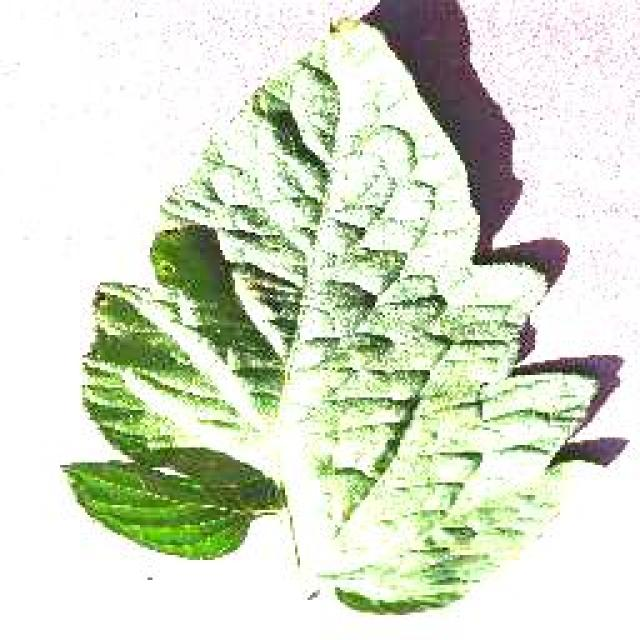Tomato___Target_Spot: (65, 18, 595, 610)
